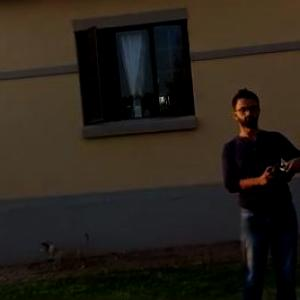follow: (214, 80, 300, 299)
null: (36, 221, 93, 274)
